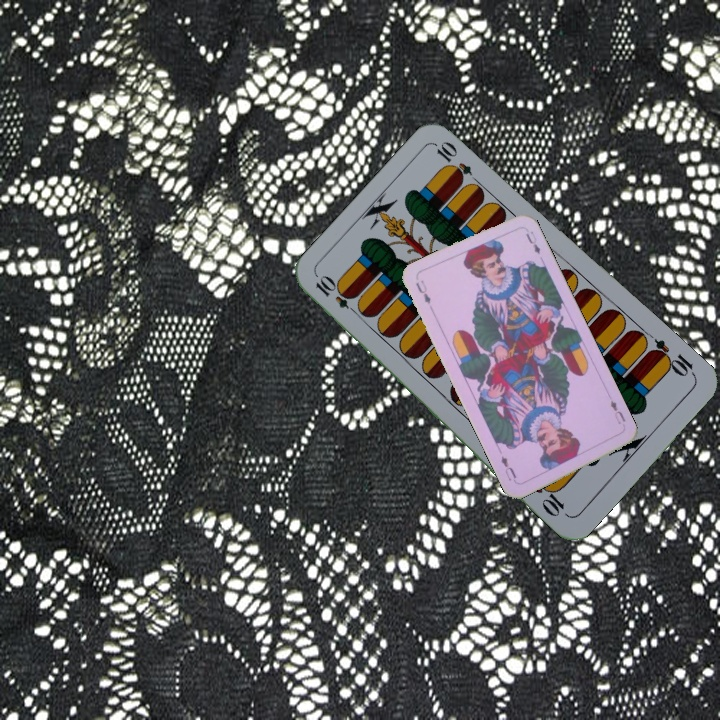E10: (311, 272, 363, 318), (645, 335, 698, 380)
EU: (606, 396, 628, 427), (411, 276, 433, 306)
